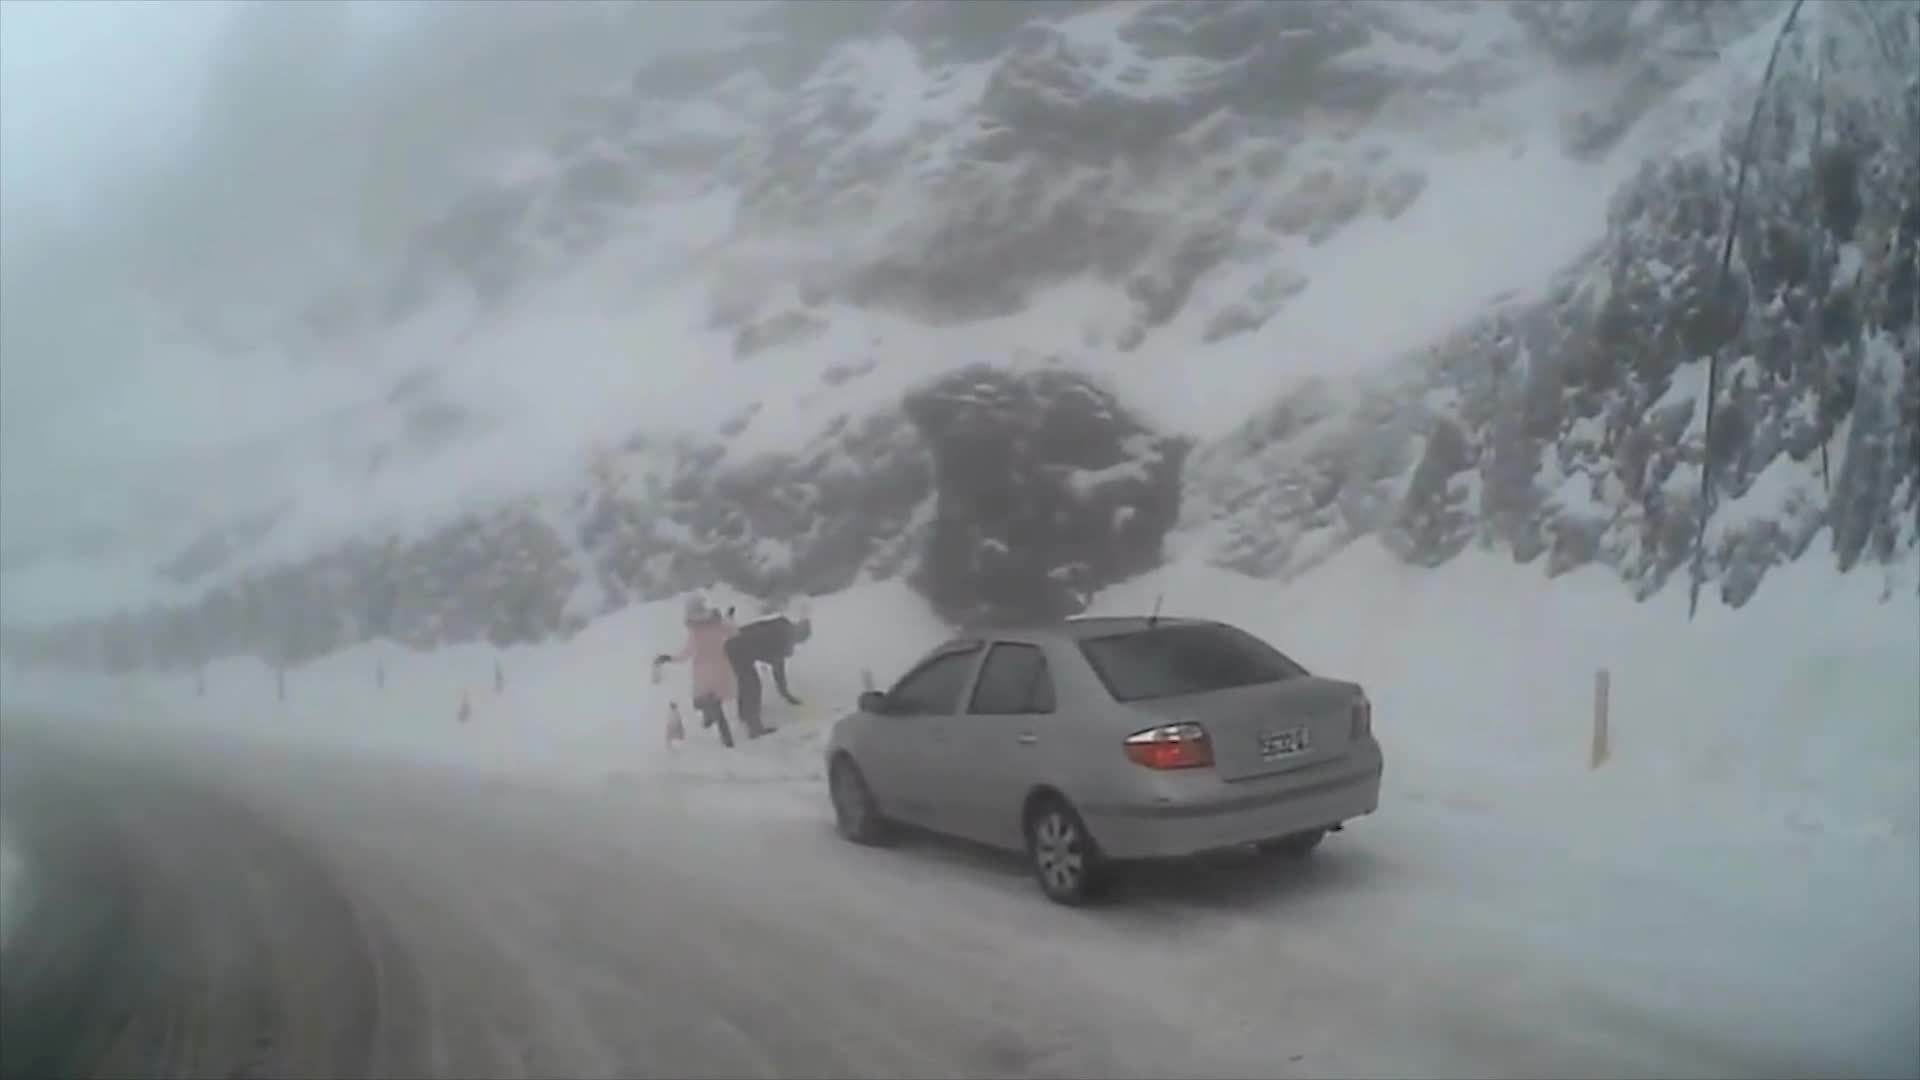pedestrian: (658, 590, 743, 752)
vehicle: (822, 613, 1382, 909)
